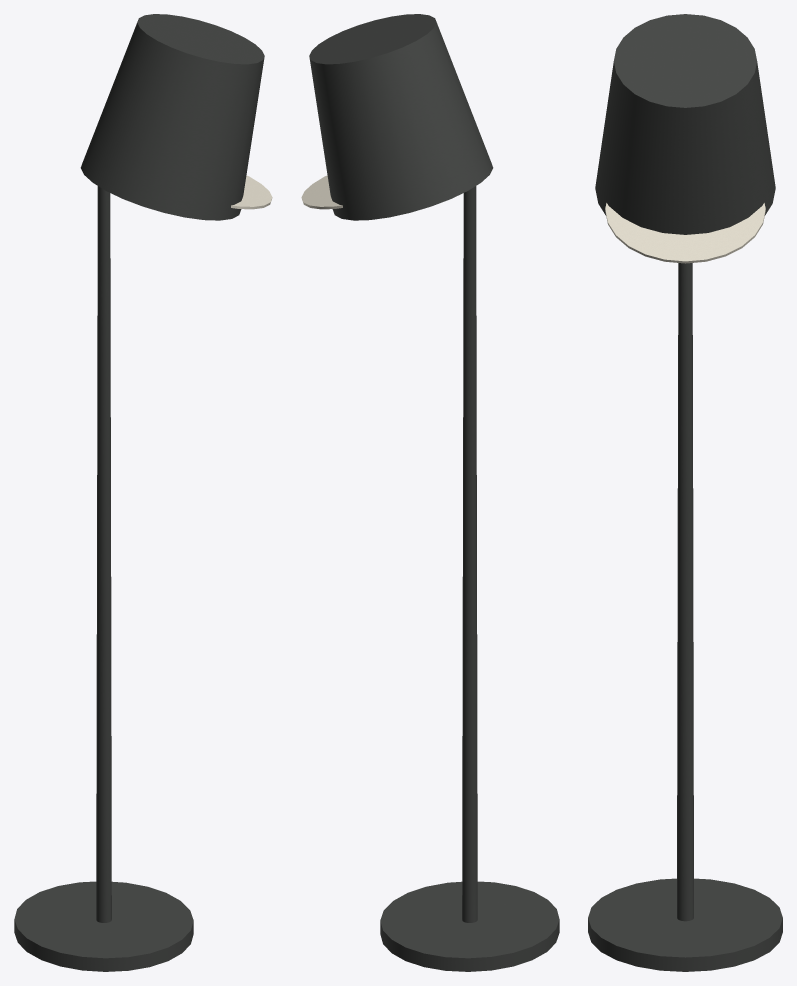
File: hektar.glb
3 renders of one model, left to right at view 1: azimuth 30°, elevation 25°; view 2: azimuth 150°, elevation 25°; view 3: azimuth 270°, elevation 25°, orthographic. The views are drawn at different scales.
Parts seen in each view (by area): view 1: HEKTAR Floor lamp; view 2: HEKTAR Floor lamp; view 3: HEKTAR Floor lamp.
Boxes of the visible parts, x1,y1,x2,y2 form: HEKTAR Floor lamp: [14, 14, 272, 971]; HEKTAR Floor lamp: [301, 14, 559, 971]; HEKTAR Floor lamp: [588, 14, 782, 971].
Size of the model in its own units: 0.5 by 1.81 by 0.34.
2 materials, 2 textured.
